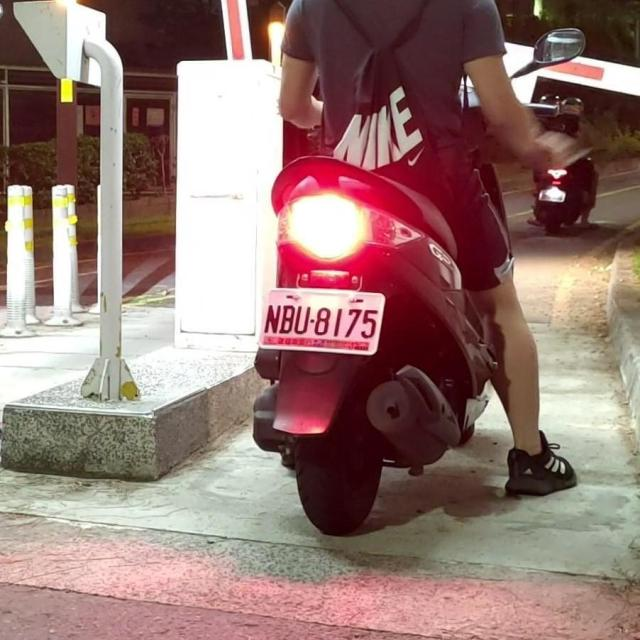W: (256, 284, 386, 357)
